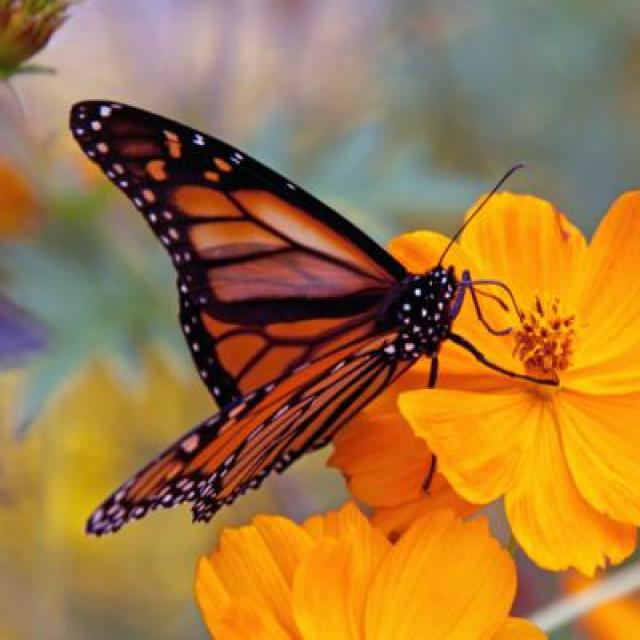antennae: (436, 137, 540, 273)
body: (386, 258, 468, 358)
insect: (67, 94, 560, 541)
legs: (426, 266, 560, 528)
wings: (67, 97, 416, 532)
